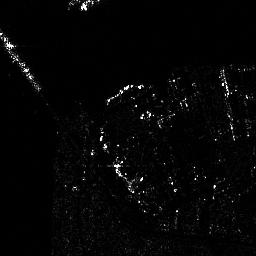ship: (1, 29, 42, 90)
